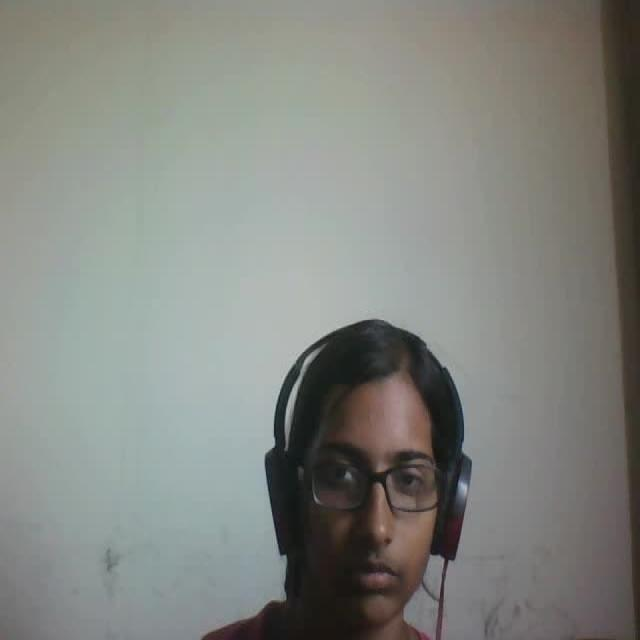Engaged: (230, 310, 485, 640)
